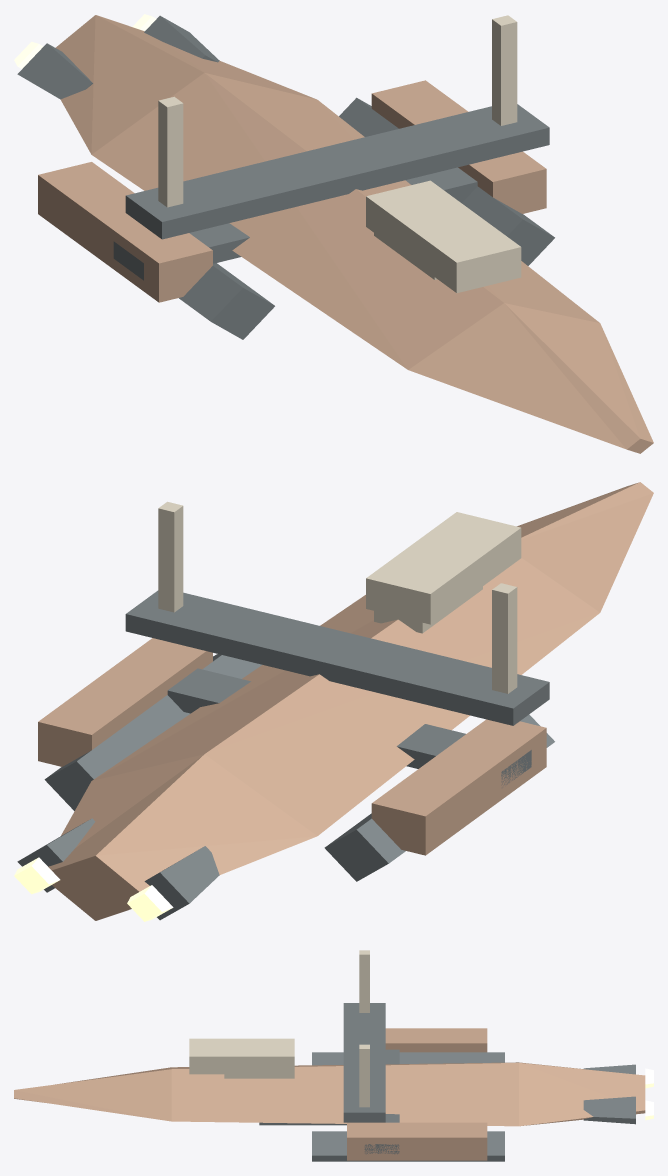
3 renders of one model, top to bottom at view 1: azimuth 30°, elevation 25°; view 2: azimuth 150°, elevation 25°; view 3: azimuth 270°, elevation 25°, orthographic. The views are drawn at different scales.
Bounding box in the file's own units: 3.31 × 1.78 × 8.18.
